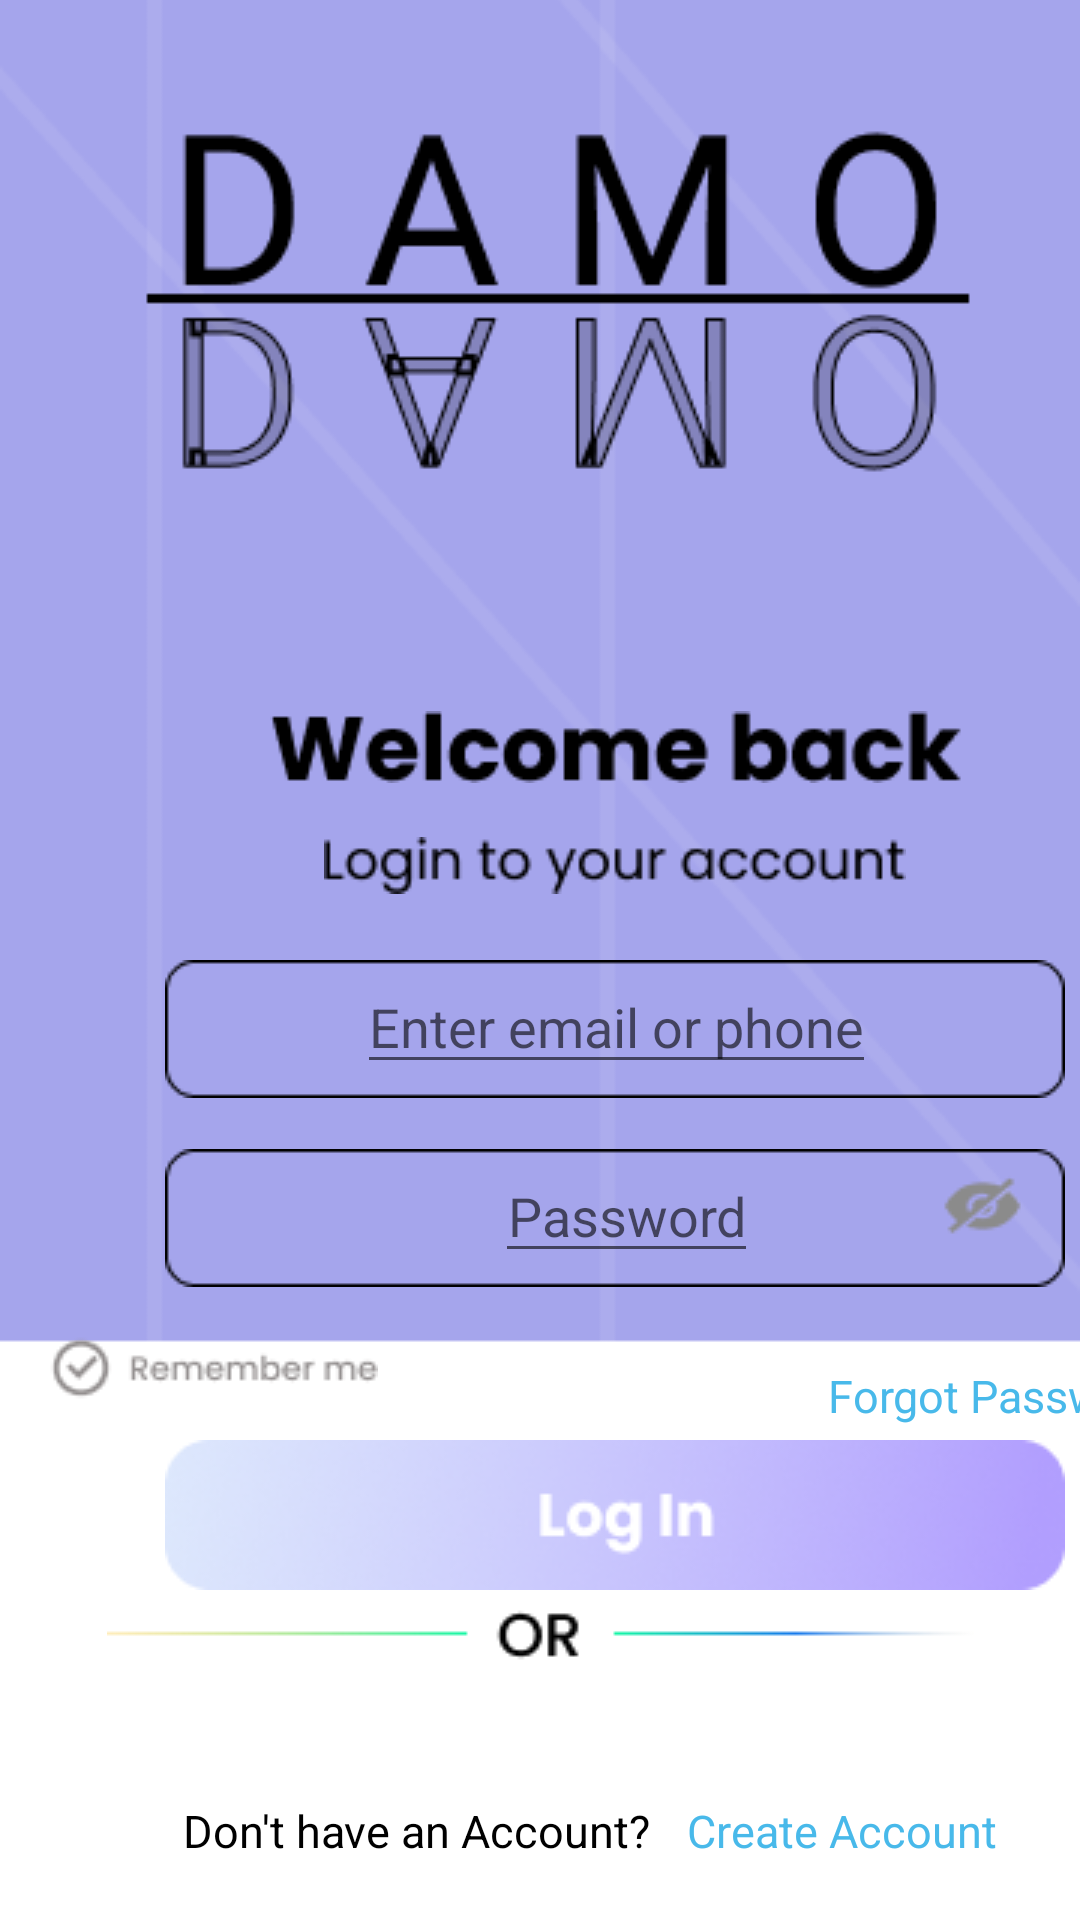

Screen size 1080 × 1920. Icon name, then its box in pixels as box(x1, y1, x2, y2):
eyes: box(944, 1178, 1021, 1234)
